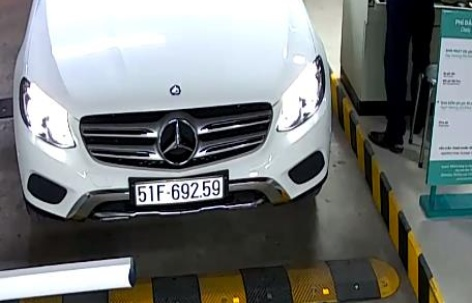plate: (133, 175, 229, 199)
